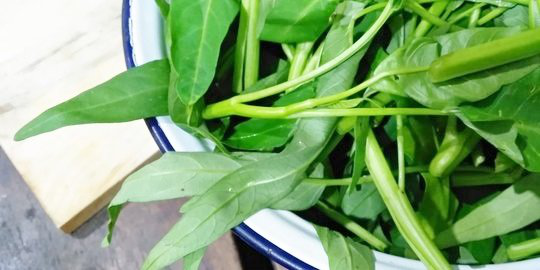Kangkung: (235, 36, 517, 223)
